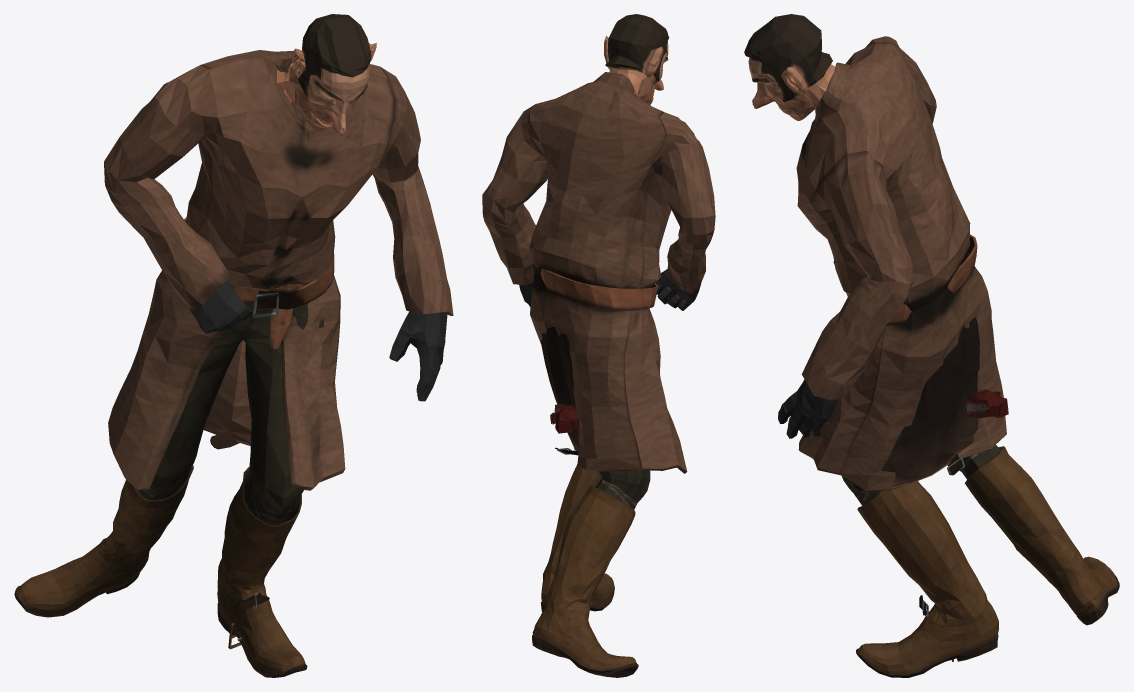
Rendered from sniper-inj-walk_joined_000023.obj.
3 views of the same model, side by side, from view 1: azimuth 30°, elevation 25°; view 2: azimuth 150°, elevation 25°; view 3: azimuth 270°, elevation 25° (orthographic). The views are drawn at different scales.
Parts seen in each view (by area): view 1: Shoes; view 2: Shoes; view 3: Shoes.
Part boxes in pixels (box(x1,y1,x2,y2)): Shoes: box(14, 14, 453, 677); Shoes: box(482, 14, 715, 677); Shoes: box(744, 14, 1119, 677).
Size of the model in its own units: 1.08 by 2.39 by 1.25.
